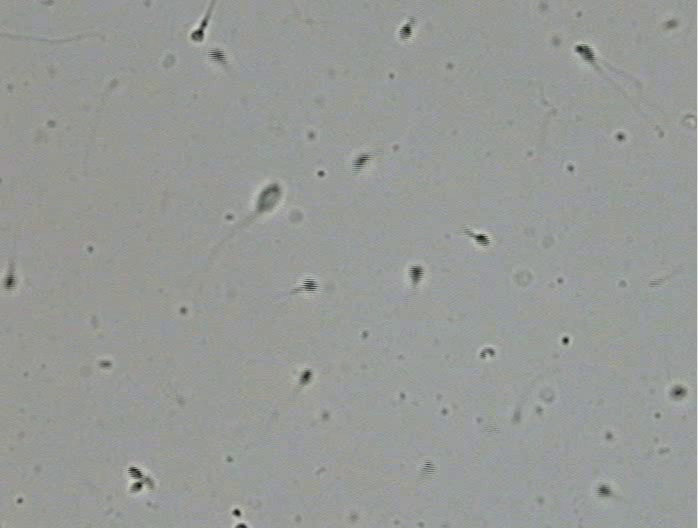S: (256, 182, 283, 214), (575, 44, 595, 63), (407, 264, 425, 285), (352, 152, 370, 173), (208, 48, 227, 63), (3, 272, 17, 291), (302, 278, 319, 293), (398, 24, 413, 41), (473, 233, 491, 246), (127, 465, 143, 479), (596, 484, 612, 498), (299, 368, 312, 385), (191, 27, 205, 42), (671, 386, 686, 398), (129, 482, 143, 493)
